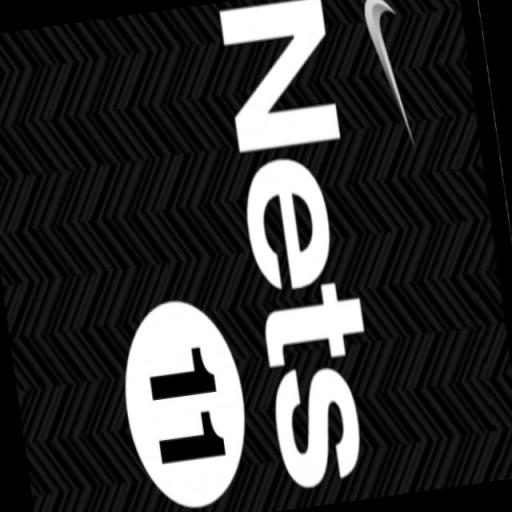Nike: (347, 0, 426, 173)
